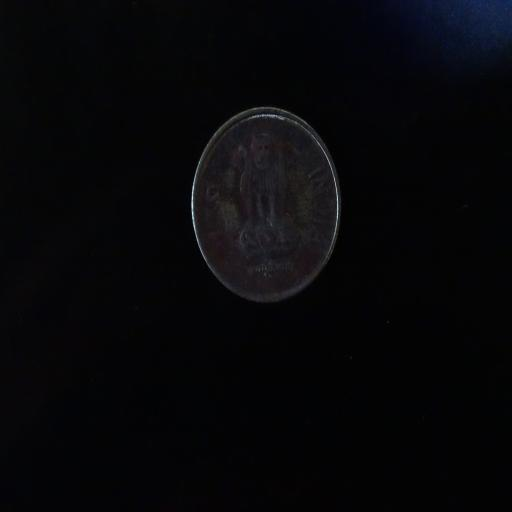rupee2: (189, 108, 342, 304)
